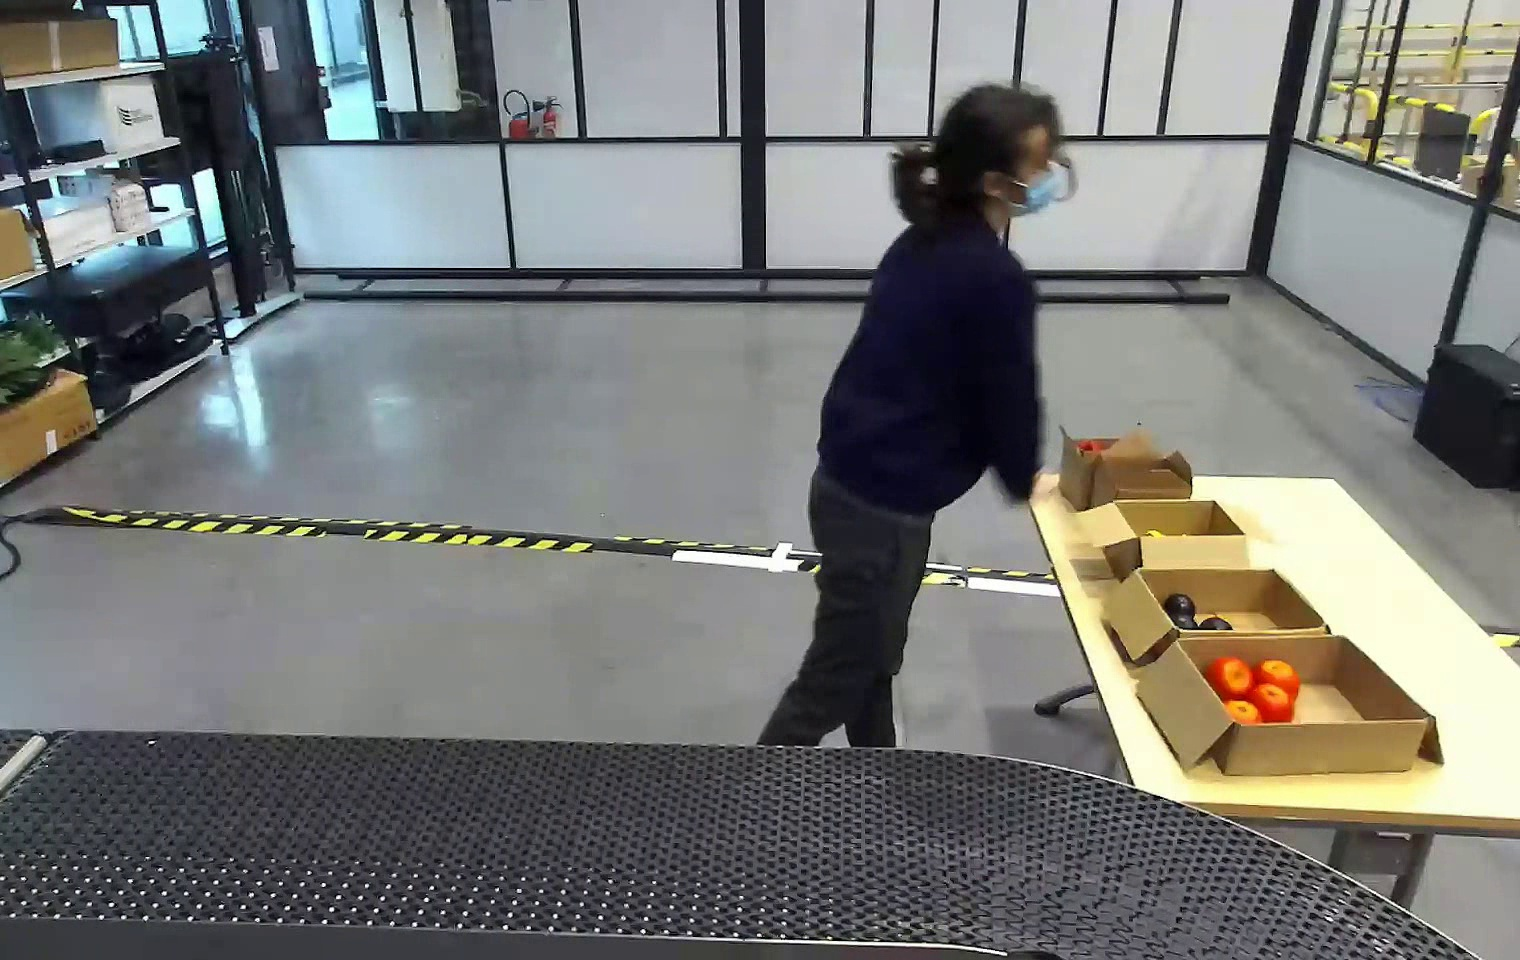Main droite: (1111, 529, 1183, 578)
